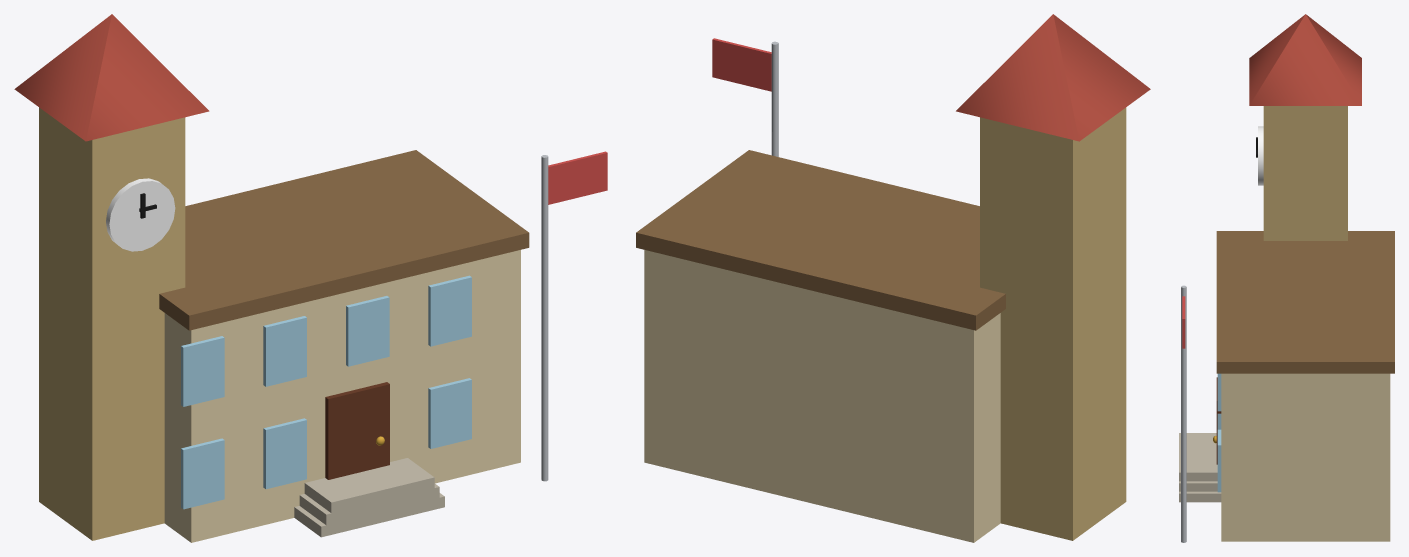
The model's file is biz_school.glb.
3 views of the same model, side by side, from view 1: azimuth 30°, elevation 25°; view 2: azimuth 150°, elevation 25°; view 3: azimuth 270°, elevation 25° (orthographic). The views are drawn at different scales.
Size of the model in its own units: 4.65 by 4.6 by 2.3.
